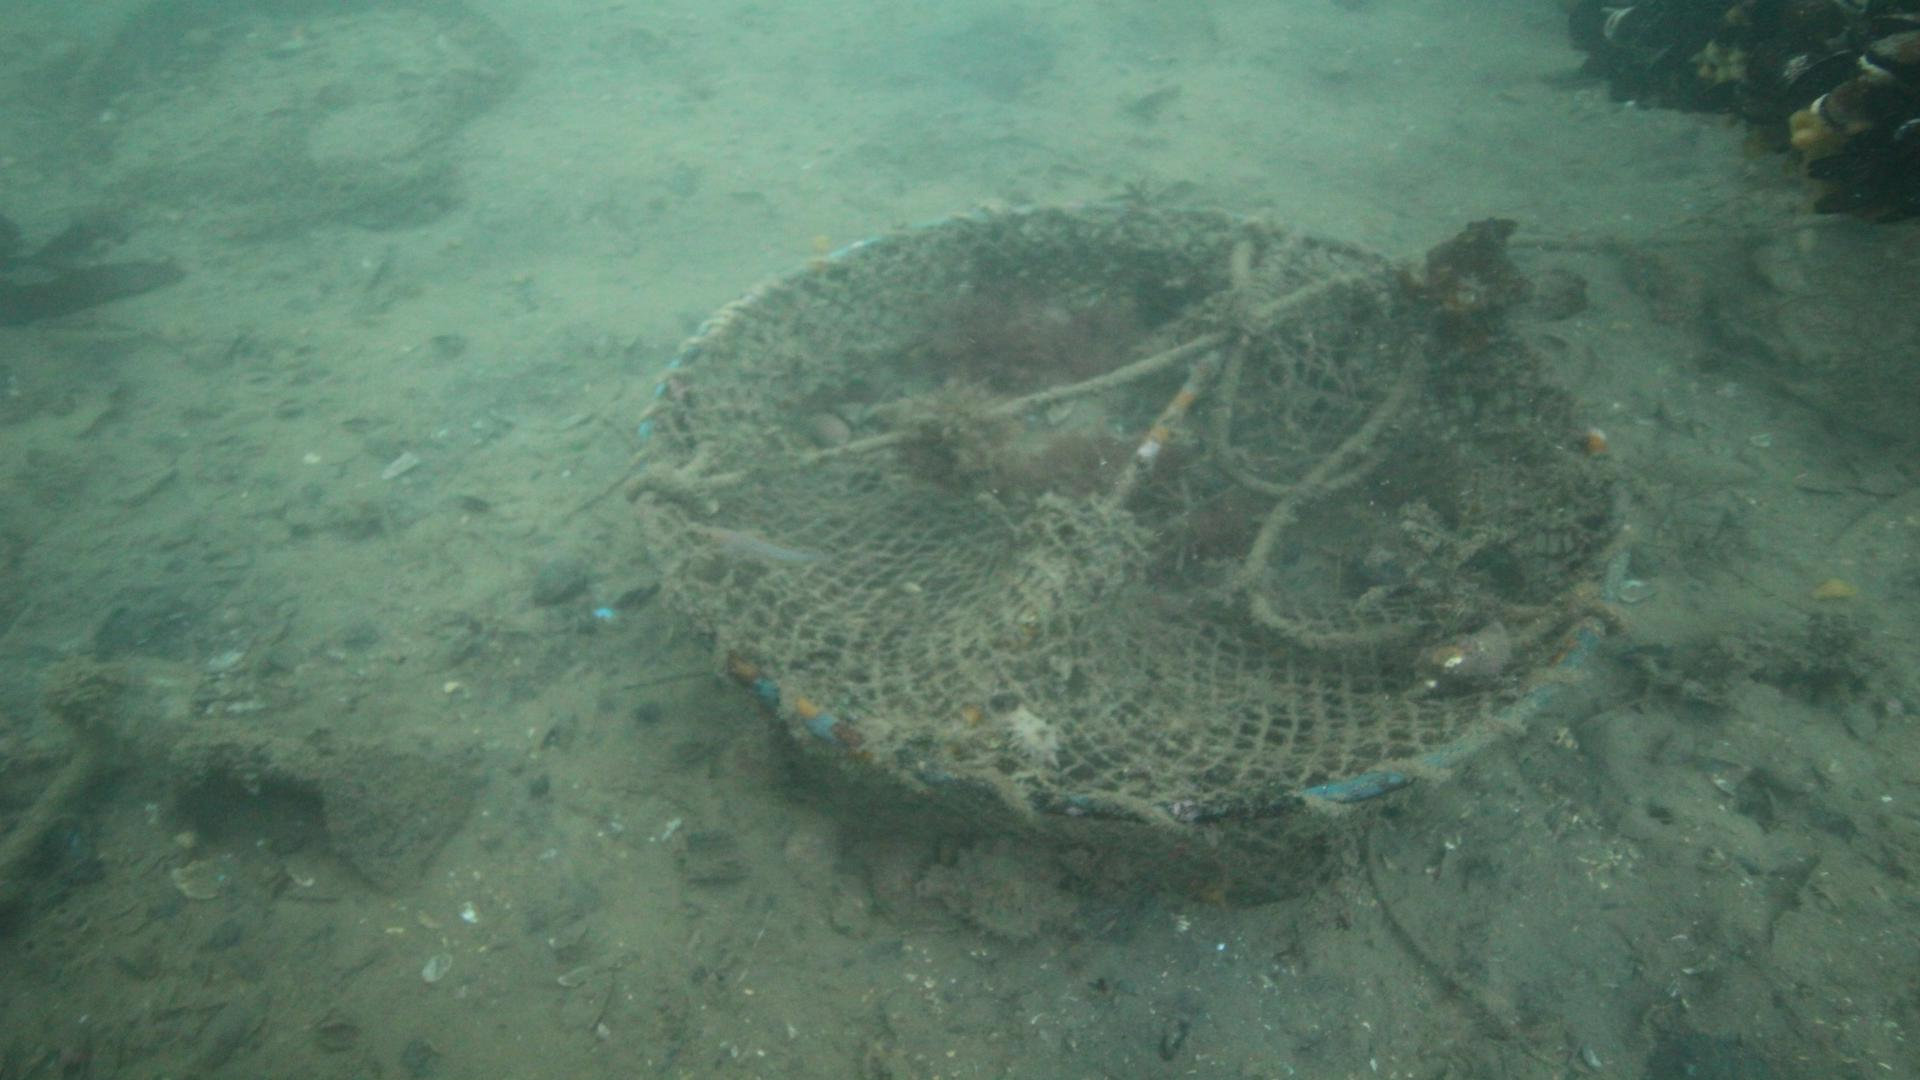circular fish trap: (622, 198, 1634, 905)
